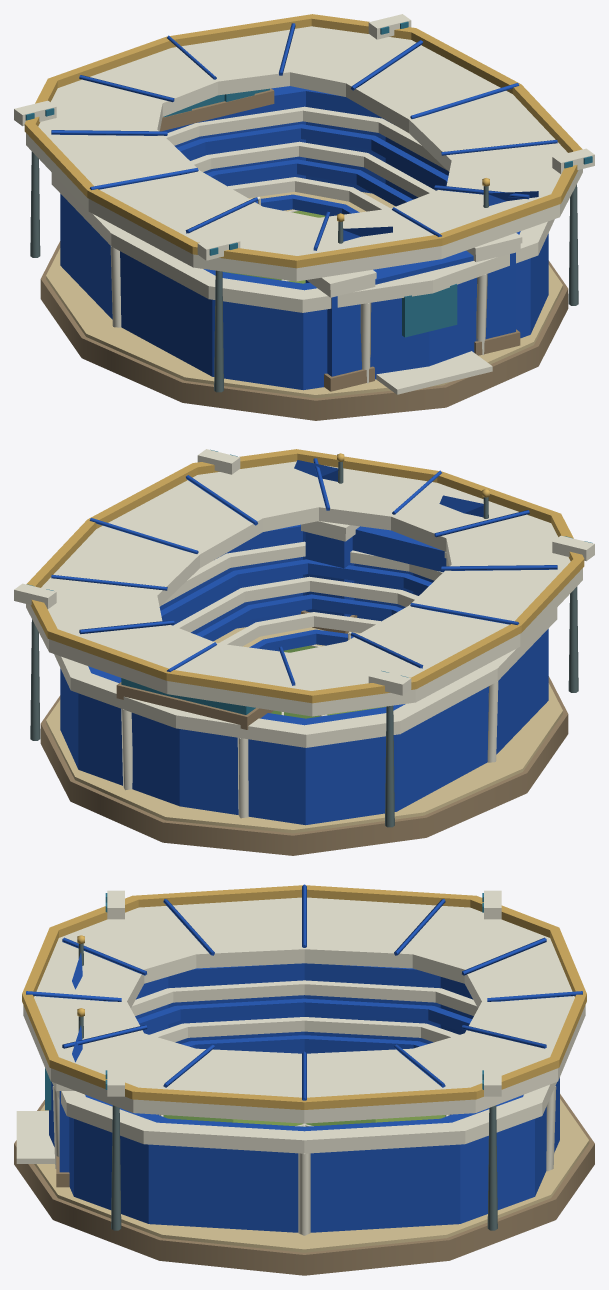
The model's file is main-stadium-lv5.glb.
The picture shows the model from 3 angles, top to bottom: view 1: azimuth 30°, elevation 25°; view 2: azimuth 150°, elevation 25°; view 3: azimuth 270°, elevation 25°; orthographic projection. The views are drawn at different scales.
Parts seen in each view (by area): view 1: canopy_white, stadium_shell_royal, crown_gold, foundation_stoneDark, seating_white, upper_concourse_white, seating_royal, foundation_sand, roof_ribs_royal, entrance_pylons_royal, lighting_iron, lighting_white (+9 smaller); view 2: canopy_white, stadium_shell_royal, crown_gold, foundation_stoneDark, upper_concourse_white, foundation_sand, seating_white, seating_royal, roof_ribs_royal, lighting_iron, lighting_white, facade_ribs_white (+5 smaller); view 3: canopy_white, stadium_shell_royal, crown_gold, foundation_stoneDark, upper_concourse_white, seating_white, foundation_sand, seating_royal, roof_ribs_royal, lighting_iron, facade_ribs_white, lighting_white (+4 smaller).
Boxes of the visible parts, x1,y1,x2,y2 form: canopy_white: [26, 26, 582, 281]; stadium_shell_royal: [60, 86, 548, 390]; crown_gold: [24, 14, 582, 268]; foundation_stoneDark: [40, 241, 568, 420]; seating_white: [164, 106, 447, 211]; upper_concourse_white: [51, 173, 554, 312]; seating_royal: [176, 124, 448, 216]; foundation_sand: [46, 192, 562, 398]; roof_ribs_royal: [51, 23, 557, 250]; entrance_pylons_royal: [305, 252, 515, 376]; lighting_iron: [30, 151, 578, 392]; lighting_white: [14, 14, 594, 260]; canopy_white: [26, 461, 582, 716]; stadium_shell_royal: [60, 524, 548, 825]; crown_gold: [26, 449, 584, 703]; foundation_stoneDark: [40, 676, 568, 855]; upper_concourse_white: [54, 608, 557, 747]; foundation_sand: [46, 627, 562, 833]; seating_white: [161, 541, 442, 646]; seating_royal: [160, 559, 432, 651]; roof_ribs_royal: [51, 458, 557, 685]; lighting_iron: [30, 586, 578, 827]; lighting_white: [14, 449, 594, 695]; facade_ribs_white: [121, 681, 498, 818]; canopy_white: [23, 897, 585, 1123]; stadium_shell_royal: [49, 963, 559, 1232]; crown_gold: [22, 885, 586, 1109]; foundation_stoneDark: [14, 1094, 594, 1275]; upper_concourse_white: [52, 1082, 556, 1153]; seating_white: [131, 980, 477, 1042]; foundation_sand: [34, 1099, 589, 1252]; seating_royal: [137, 998, 471, 1114]; roof_ribs_royal: [26, 884, 582, 1100]; lighting_iron: [111, 1105, 497, 1230]; facade_ribs_white: [52, 1086, 556, 1235]; lighting_white: [107, 890, 501, 1096].
Bounding box in the file's own units: 0.9074 × 0.3662 × 1.
